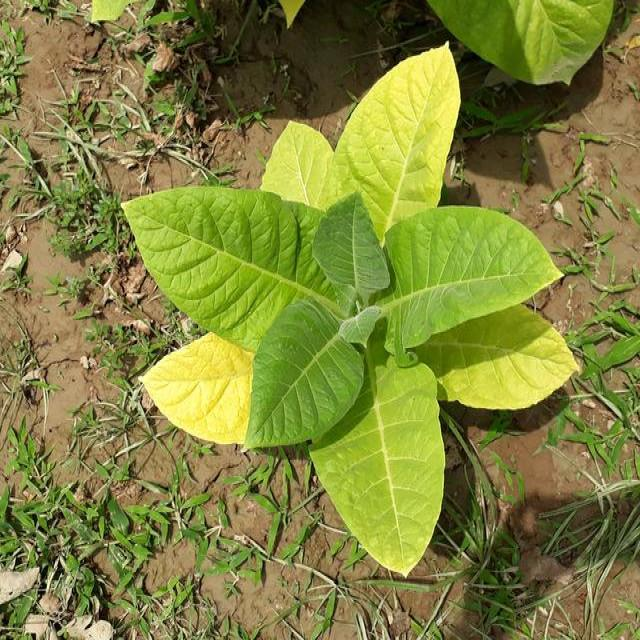crop: (126, 58, 582, 572), (424, 0, 615, 87)
